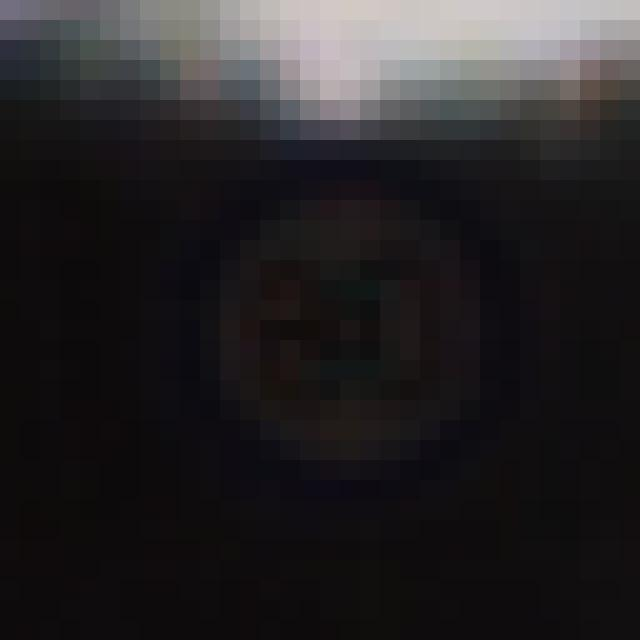SPEED-LIMIT-80: (197, 177, 502, 483)
